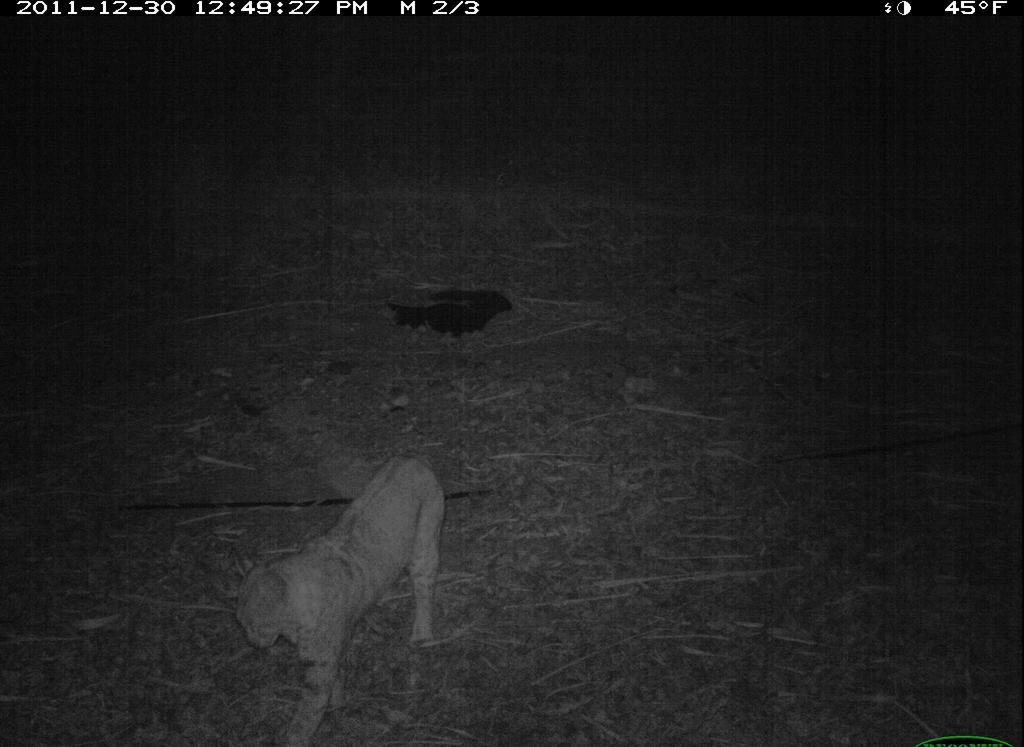bobcat: (213, 451, 457, 747)
